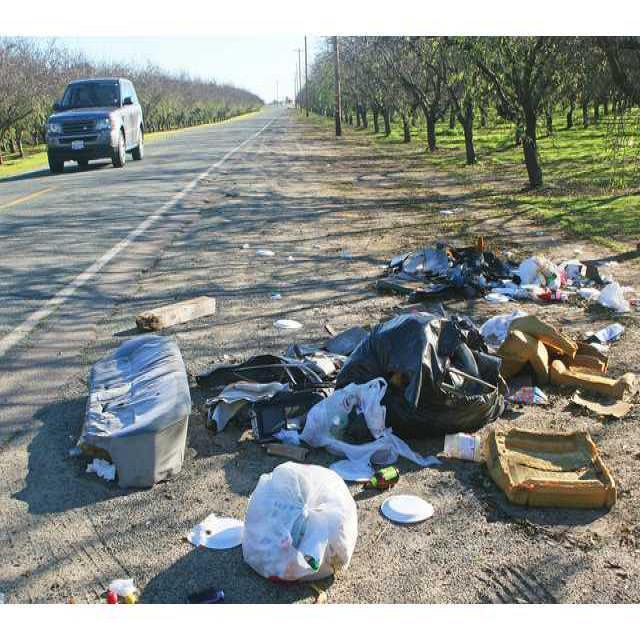Trashbag: (328, 310, 504, 436), (381, 240, 507, 294)
